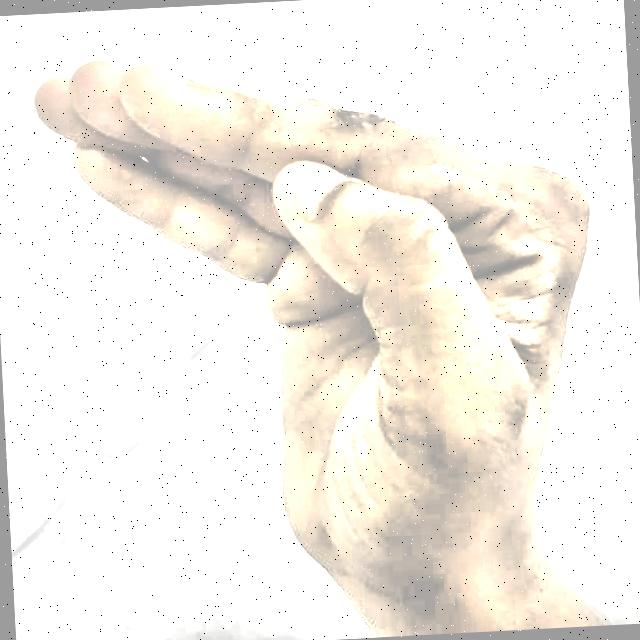Ga: (17, 9, 621, 606)
